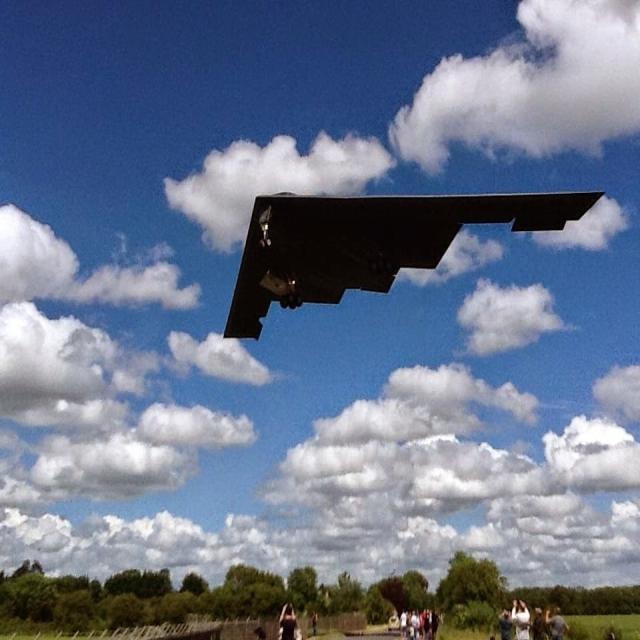MIL_Plane: (223, 197, 605, 336)
